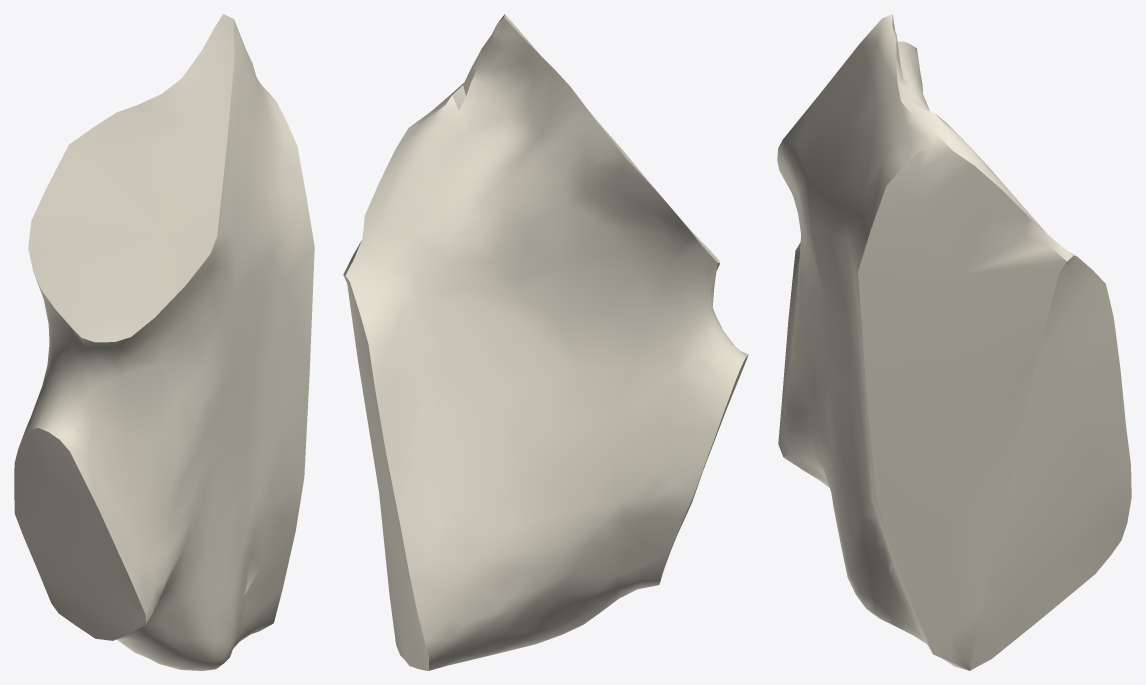
Rendered from fma12087_mm2395m.glb.
The picture shows the model from 3 angles, left to right: view 1: azimuth 30°, elevation 25°; view 2: azimuth 150°, elevation 25°; view 3: azimuth 270°, elevation 25°; orthographic projection. The views are drawn at different scales.
Parts seen in each view (by area): view 1: FMA12087_MM2395M; view 2: FMA12087_MM2395M; view 3: FMA12087_MM2395M.
Boxes of the visible parts, bbox=[...] form: FMA12087_MM2395M: bbox=[14, 14, 314, 670]; FMA12087_MM2395M: bbox=[343, 14, 748, 670]; FMA12087_MM2395M: bbox=[777, 14, 1131, 670].
Size of the model in its own units: 0.0138 by 0.0292 by 0.015.
